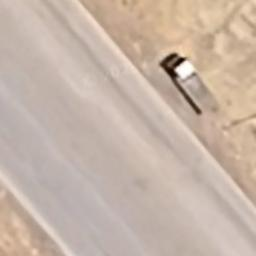truck: (165, 55, 220, 118)
